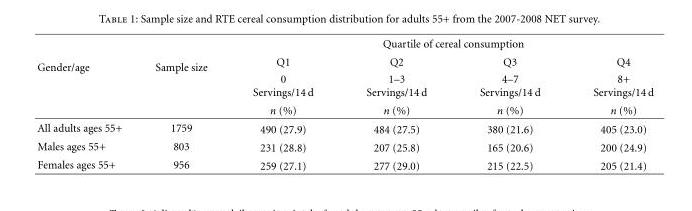table: (36, 37, 653, 171)
table column: (452, 37, 566, 171), (339, 37, 452, 171), (229, 37, 339, 171), (36, 37, 138, 171), (138, 37, 229, 171), (566, 37, 653, 171)
table column header: (36, 37, 653, 119)
table row: (36, 70, 653, 100), (36, 100, 653, 119), (36, 52, 653, 70), (36, 119, 653, 137), (36, 137, 653, 155), (36, 155, 653, 171), (36, 37, 653, 52)
table spanning cell: (36, 37, 138, 119), (452, 52, 566, 119), (339, 52, 452, 119), (138, 37, 229, 119), (229, 52, 339, 119), (229, 37, 653, 52), (566, 52, 653, 119)
